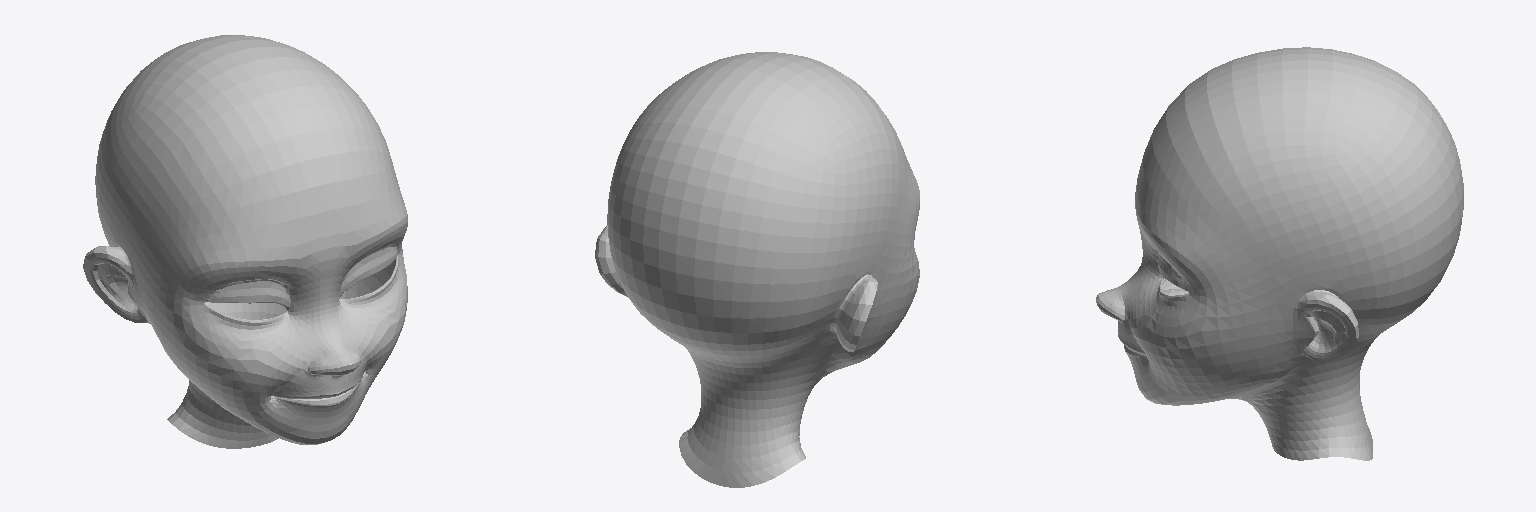
File: pos2.obj
The picture shows the model from 3 angles: view 1: azimuth 30°, elevation 25°; view 2: azimuth 150°, elevation 25°; view 3: azimuth 270°, elevation 25°; orthographic projection.
Parts seen in each view (by area): view 1: Mesh; view 2: Mesh; view 3: Mesh.
Part boxes in pixels (x1,y1,x2,y2): Mesh: (83,35,407,448); Mesh: (595,52,919,487); Mesh: (1096,47,1463,460).
Size of the model in its own units: 23.75 by 32.31 by 27.53.